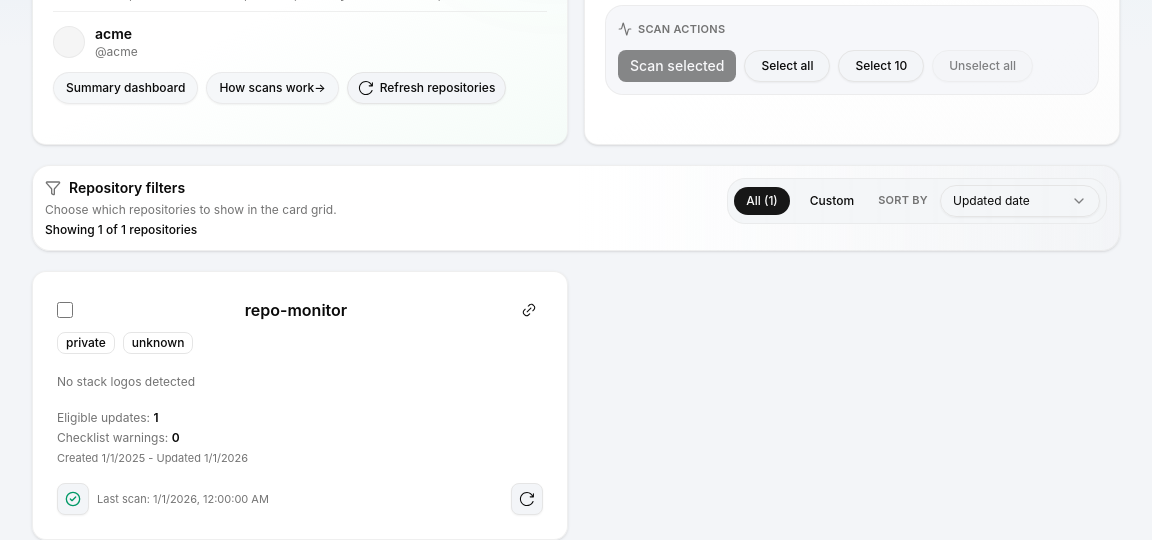
Test: RepoHealthSetup › excludes package-only warnings from the needs-attention filter
Check: the text "repo-monitor" is shown, box x1=245 y1=298 x2=347 y2=322
Click the button "Custom" at (832, 200), box x1=798 y1=186 x2=866 y2=214
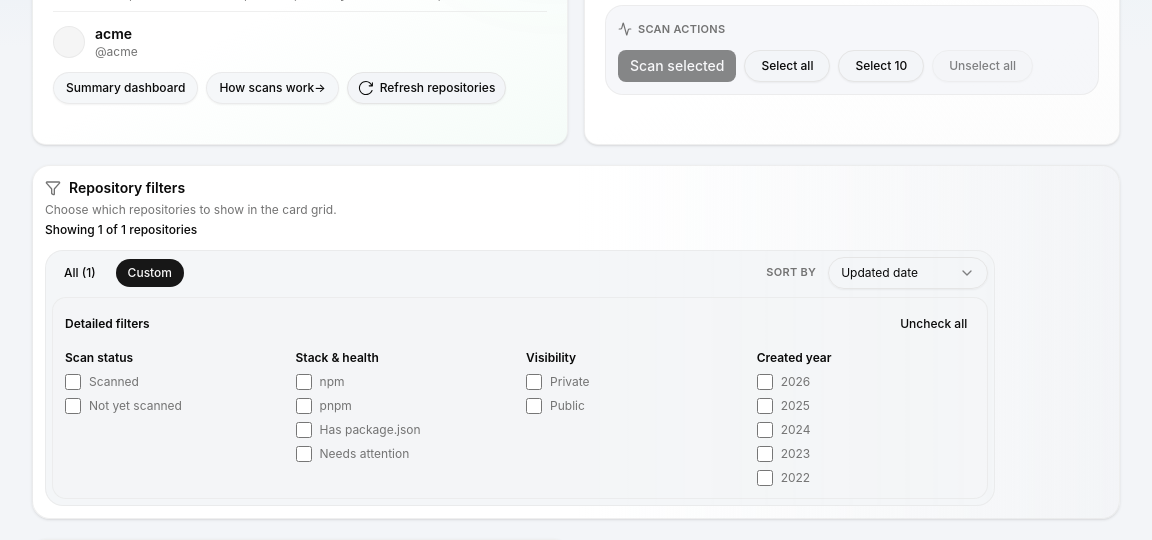
Click the checkbox labelled "Needs attention" at (304, 454), box x1=296 y1=446 x2=312 y2=462
(page scrolled)
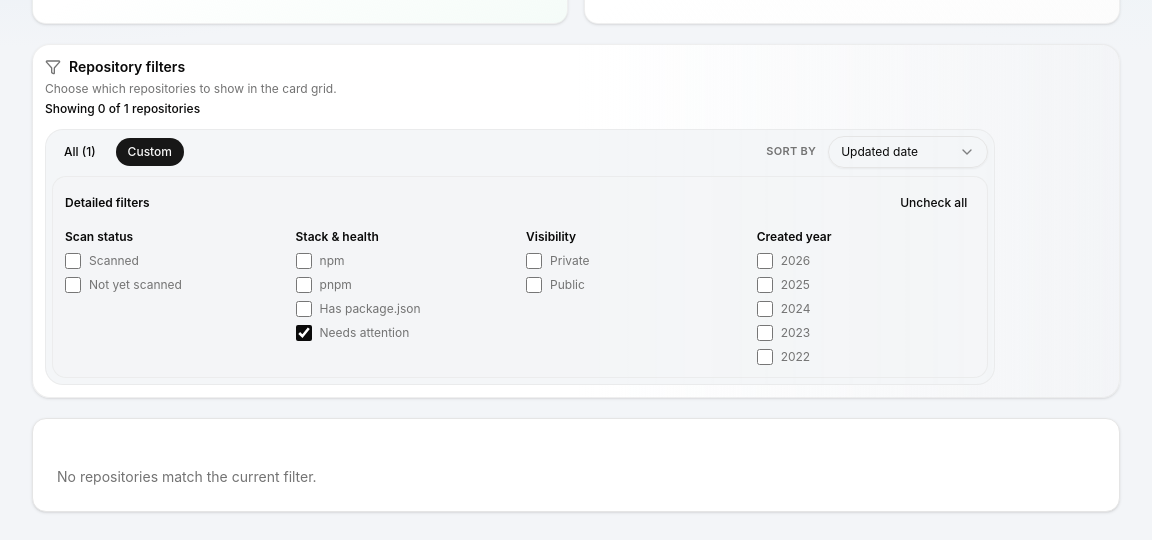
Check: the text "No repositories match the current filter." is shown, box x1=57 y1=468 x2=317 y2=484
